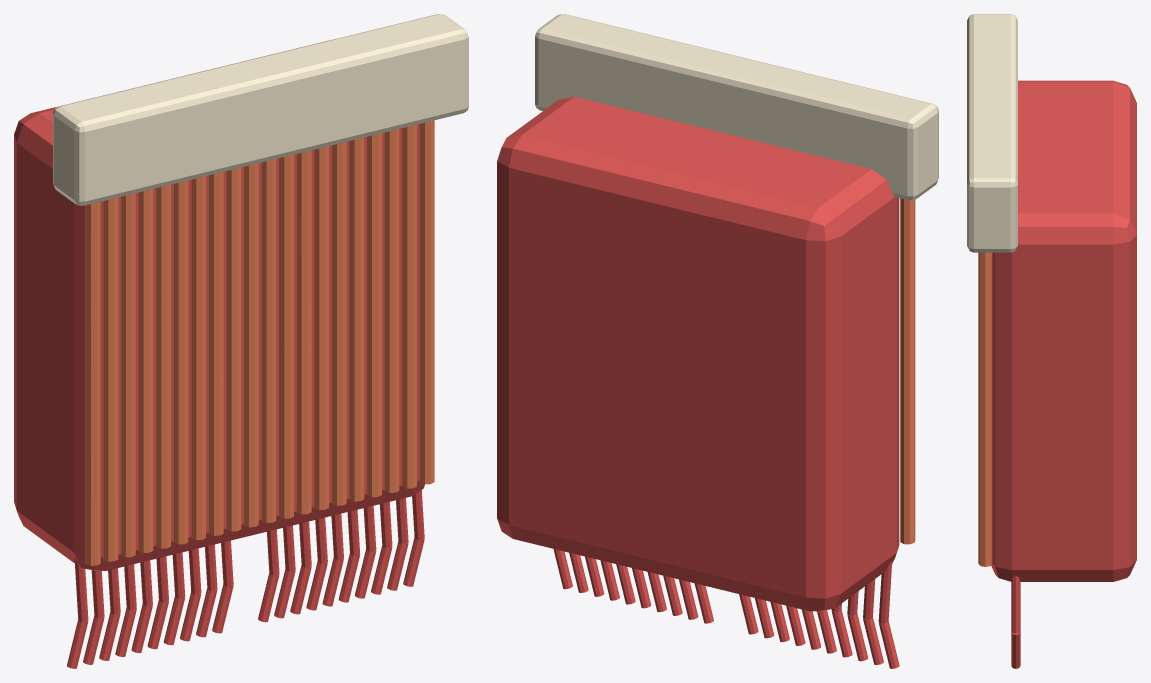
Rendered from costume_miko_hakama.glb.
The picture shows the model from 3 angles, left to right: view 1: azimuth 30°, elevation 25°; view 2: azimuth 150°, elevation 25°; view 3: azimuth 270°, elevation 25°; orthographic projection. The views are drawn at different scales.
Visible parts, largest first — view 1: Miko crimson pleated hakama, Wide traditional folded obi, Individually modeled hakama pleat.012, Individually modeled hakama pleat.019, Individually modeled hakama pleat.005, Individually modeled hakama pleat.015, Individually modeled hakama pleat.002, Individually modeled hakama pleat, Individually modeled hakama pleat.001, Individually modeled hakama pleat.007, Individually modeled hakama pleat.008, Individually modeled hakama pleat.009 (+10 smaller); view 2: Miko crimson pleated hakama, Wide traditional folded obi, Individually modeled hakama pleat; view 3: Miko crimson pleated hakama, Wide traditional folded obi, Individually modeled hakama pleat.019, Crimson hakama hem9_00.001, Crimson hakama hem9_01.001.
Part boxes in pixels (x1=…): Miko crimson pleated hakama: x1=14, y1=40, x2=424, y2=570; Wide traditional folded obi: x1=53, y1=14, x2=468, y2=205; Individually modeled hakama pleat.012: x1=296, y1=150, x2=311, y2=514; Individually modeled hakama pleat.019: x1=419, y1=120, x2=434, y2=484; Individually modeled hakama pleat.005: x1=173, y1=180, x2=188, y2=544; Individually modeled hakama pleat.015: x1=349, y1=137, x2=364, y2=501; Individually modeled hakama pleat.002: x1=120, y1=193, x2=135, y2=557; Individually modeled hakama pleat: x1=85, y1=202, x2=100, y2=565; Individually modeled hakama pleat.001: x1=103, y1=197, x2=118, y2=561; Individually modeled hakama pleat.007: x1=208, y1=172, x2=223, y2=535; Individually modeled hakama pleat.008: x1=226, y1=167, x2=241, y2=531; Individually modeled hakama pleat.009: x1=243, y1=163, x2=258, y2=527; Miko crimson pleated hakama: x1=497, y1=96, x2=899, y2=611; Wide traditional folded obi: x1=535, y1=14, x2=938, y2=200; Individually modeled hakama pleat: x1=900, y1=198, x2=915, y2=544; Miko crimson pleated hakama: x1=991, y1=80, x2=1136, y2=581; Wide traditional folded obi: x1=967, y1=14, x2=1017, y2=252; Individually modeled hakama pleat.019: x1=978, y1=252, x2=992, y2=566; Crimson hakama hem9_00.001: x1=1011, y1=575, x2=1020, y2=633; Crimson hakama hem9_01.001: x1=1011, y1=632, x2=1020, y2=668.
Bounding box in the file's own units: 1.42 × 1.95 × 0.5981.
